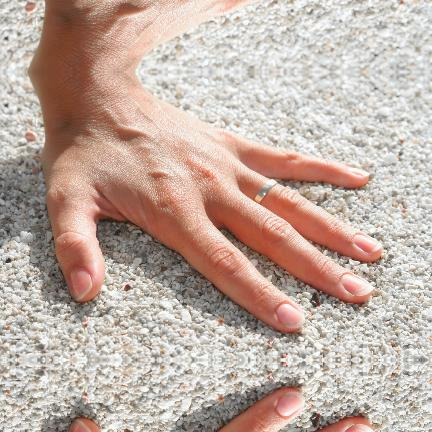Nail: (68, 266, 91, 299), (276, 303, 305, 328), (276, 390, 305, 415), (342, 273, 374, 295), (354, 233, 383, 252), (348, 165, 372, 177), (345, 423, 374, 432), (70, 419, 90, 432)
